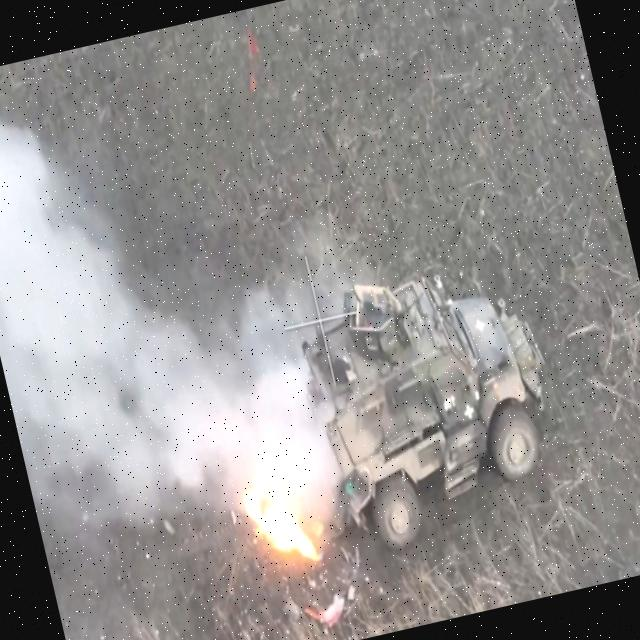Vehicle: (280, 246, 581, 564)
